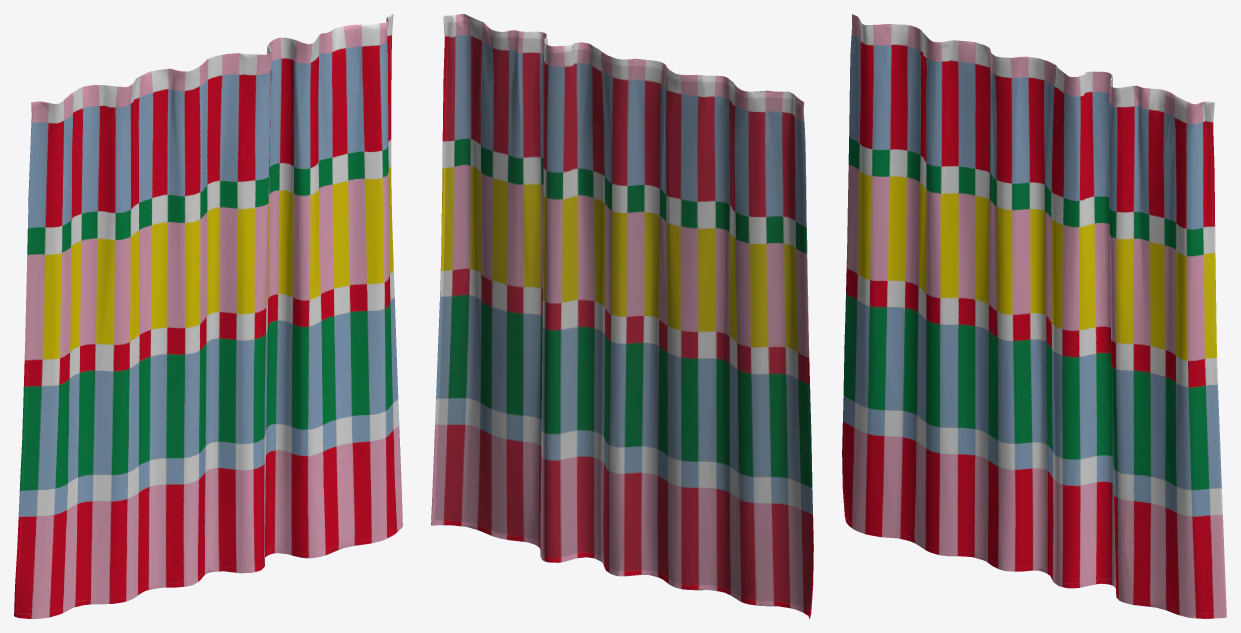
File: banjantrad_zasona_prysznicowa_80594144.glb
3 renders of one model, left to right at view 1: azimuth 30°, elevation 25°; view 2: azimuth 150°, elevation 25°; view 3: azimuth 330°, elevation 25°, orthographic.
Visible parts, largest first — view 1: banjantrad_zasona_prysznicowa_80594144; view 2: banjantrad_zasona_prysznicowa_80594144; view 3: banjantrad_zasona_prysznicowa_80594144.
Part boxes in pixels (x1=…): banjantrad_zasona_prysznicowa_80594144: x1=14, y1=14, x2=402, y2=618; banjantrad_zasona_prysznicowa_80594144: x1=431, y1=14, x2=813, y2=618; banjantrad_zasona_prysznicowa_80594144: x1=842, y1=14, x2=1226, y2=618.
Bounding box in the file's own units: 1.6 × 2.05 × 0.1252.
1 material, 1 textured.
